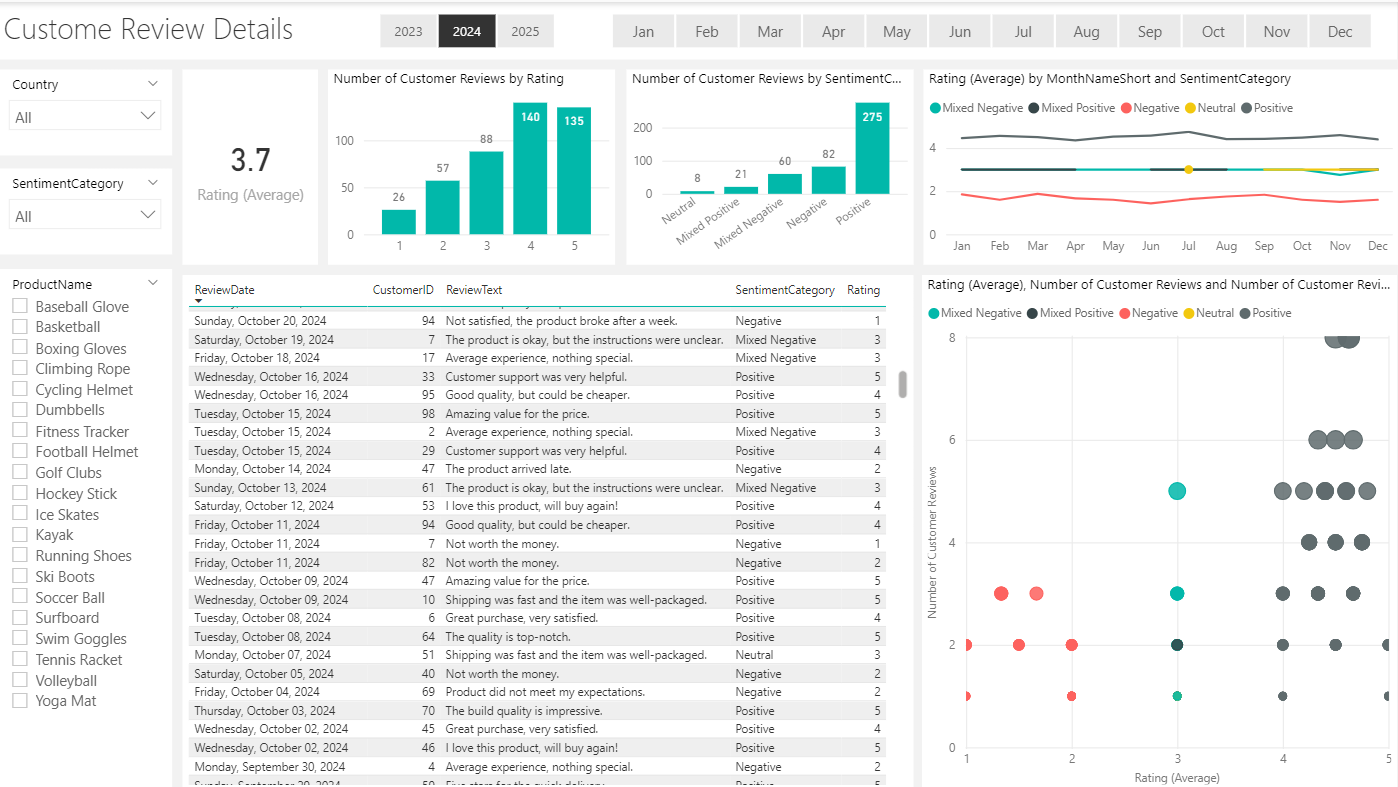

Layout of this report page (visuals, bound fields, positions):
{"tool":"powerbi","page":{"name":"Customer Review Details","canvas":[1280,720],"ordinal":3},"visuals":[{"type":"textbox","box":[0,0,1280,52.6],"z":0},{"type":"slicer","fields":{"Values":["dim_products.ProductName"]},"box":[0,244.2,159.3,475.3],"z":1000},{"type":"card","fields":{"Values":["_Calculations.Rating (Average)"]},"box":[168.5,61.9,123.8,178.5],"z":2000},{"type":"slicer","fields":{"Values":["Calendar.MonthNameShort"]},"box":[536.8,4.1,743.2,44.4],"z":3000},{"type":"lineChart","fields":{"Category":["Calendar.MonthNameShort"],"Y":["_Calculations.Rating (Average)"],"Series":["fact_customer_reviews_with_sentiment.SentimentCategory"]},"box":[846.2,62,434.1,178.4],"z":4000},{"type":"slicer","fields":{"Values":["Calendar.Year"]},"box":[324.1,4.1,208.5,44.4],"z":5000},{"type":"tableEx","fields":{"Values":["fact_customer_reviews_with_sentiment.ReviewDate","fact_customer_reviews_with_sentiment.CustomerID","fact_customer_reviews_with_sentiment.ReviewText","fact_customer_reviews_with_sentiment.SentimentCategory","fact_customer_reviews_with_sentiment.Rating"]},"box":[168.5,249.5,668.4,470.8],"z":6000},{"type":"columnChart","fields":{"Category":["fact_customer_reviews_with_sentiment.Rating"],"Y":["_Calculations.Number of Customer Reviews"]},"box":[302.4,62,262.4,178.4],"z":7000},{"type":"columnChart","fields":{"Category":["fact_customer_reviews_with_sentiment.SentimentCategory"],"Y":["_Calculations.Number of Customer Reviews"]},"box":[574.3,62,262.4,178.4],"z":8000},{"type":"slicer","fields":{"Values":["dim_customers.Country"]},"box":[0,61.4,159.3,78.3],"z":9000},{"type":"slicer","fields":{"Values":["fact_customer_reviews_with_sentiment.SentimentCategory"]},"box":[0,152.8,159.3,78.3],"z":10000},{"type":"scatterChart","fields":{"Category":["dim_customers.CustomerID"],"Series":["fact_customer_reviews_with_sentiment.SentimentCategory"],"X":["_Calculations.Rating (Average)"],"Y":["_Calculations.Number of Customer Reviews"],"Size":["_Calculations.Number of Customer Reviews"]},"box":[846,249.5,434.4,470.8],"z":11000}]}

Visuals, with their boxes in screenshot pixels (x1, y1, x2, y2), scaled from the page's 1280x720 canvas onto the 1398x787 screenshot:
textbox: 0, 0, 1397, 57
slicer - dim_products.ProductName: 0, 267, 174, 786
card - _Calculations.Rating (Average): 184, 68, 319, 263
slicer - Calendar.MonthNameShort: 586, 4, 1397, 53
lineChart - Calendar.MonthNameShort x _Calculations.Rating (Average): 924, 68, 1397, 263
slicer - Calendar.Year: 354, 4, 582, 53
tableEx - fact_customer_reviews_with_sentiment.ReviewDate x fact_customer_reviews_with_sentiment.CustomerID: 184, 273, 914, 786
columnChart - fact_customer_reviews_with_sentiment.Rating x _Calculations.Number of Customer Reviews: 330, 68, 617, 263
columnChart - fact_customer_reviews_with_sentiment.SentimentCategory x _Calculations.Number of Customer Reviews: 627, 68, 914, 263
slicer - dim_customers.Country: 0, 67, 174, 153
slicer - fact_customer_reviews_with_sentiment.SentimentCategory: 0, 167, 174, 253
scatterChart - dim_customers.CustomerID x fact_customer_reviews_with_sentiment.SentimentCategory: 924, 273, 1397, 786
